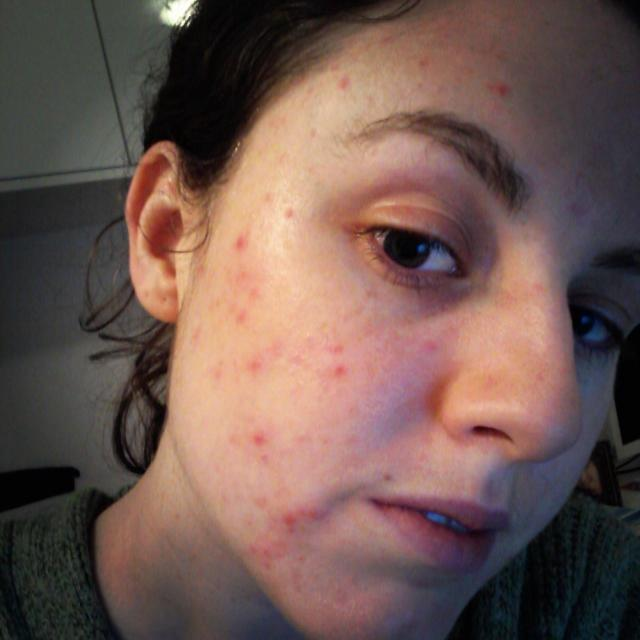Acne: (212, 207, 376, 568), (320, 9, 572, 112)
